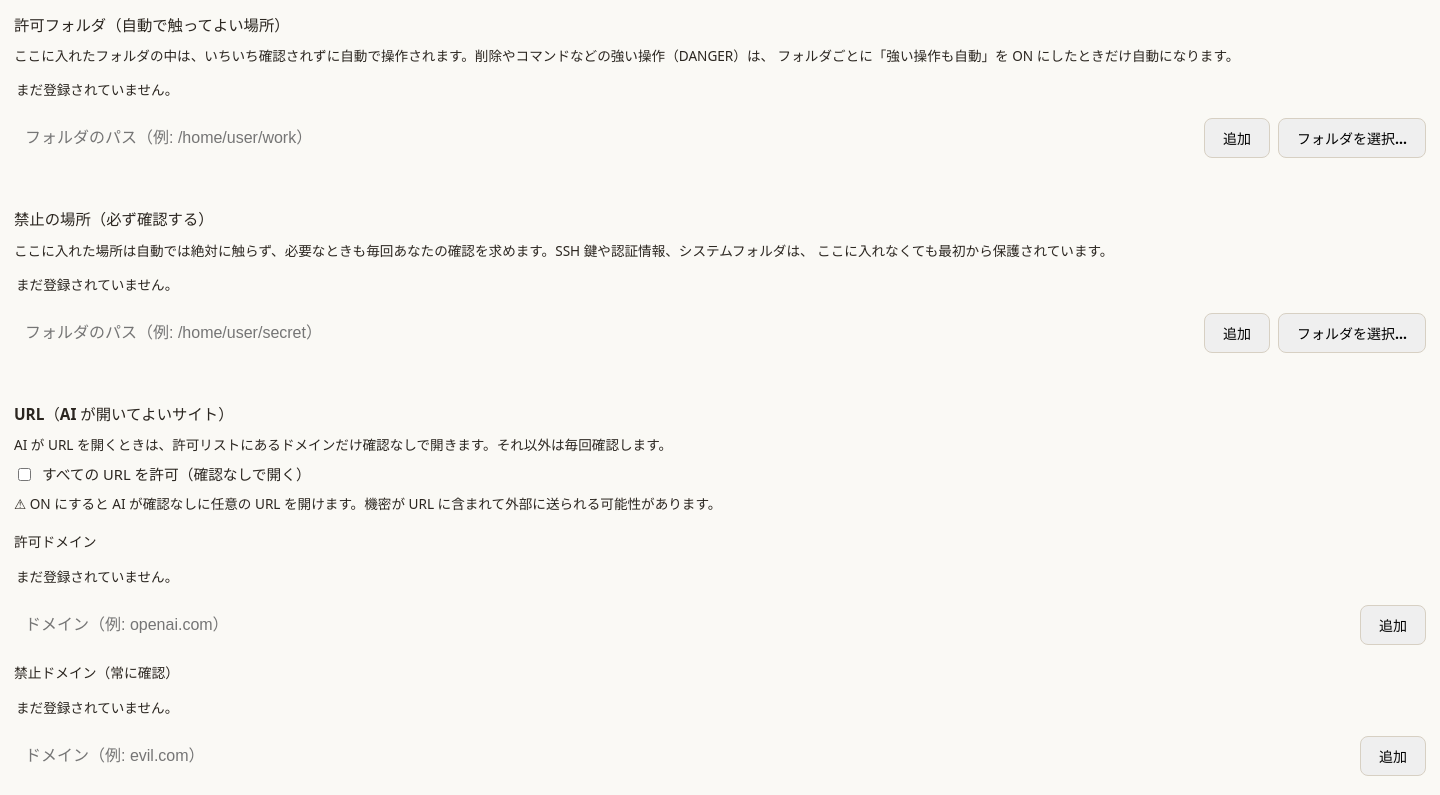
Test: PermissionPolicyEditor › rejects a malformed host without persisting
The image size is (1440, 795).
In the field named "許可ドメイン": (683, 625) x1=14 y1=605 x2=1352 y2=645, type "https://openai.com/path"
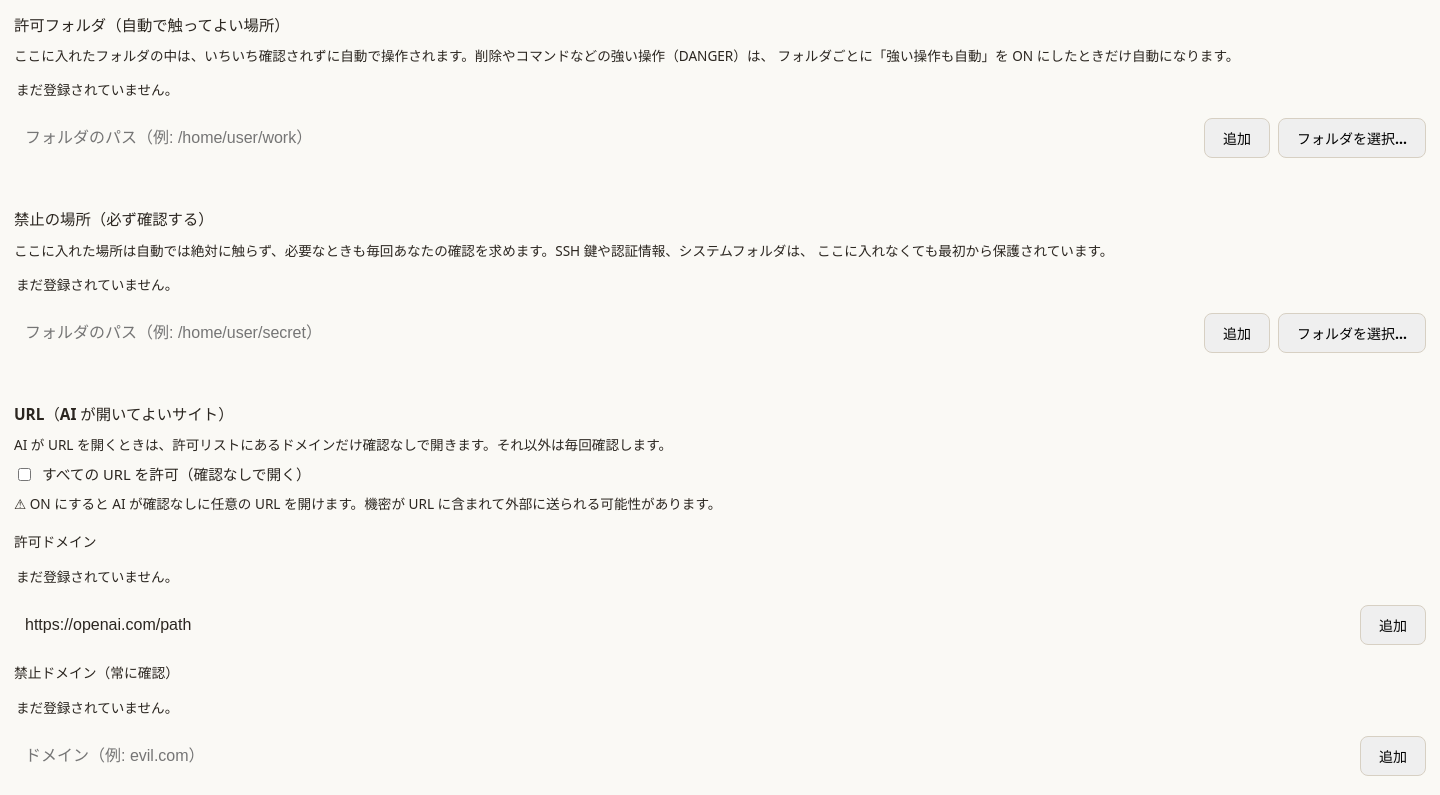
Click the button with aria-label "許可ドメインを追加": (1393, 625) x1=1360 y1=605 x2=1426 y2=645
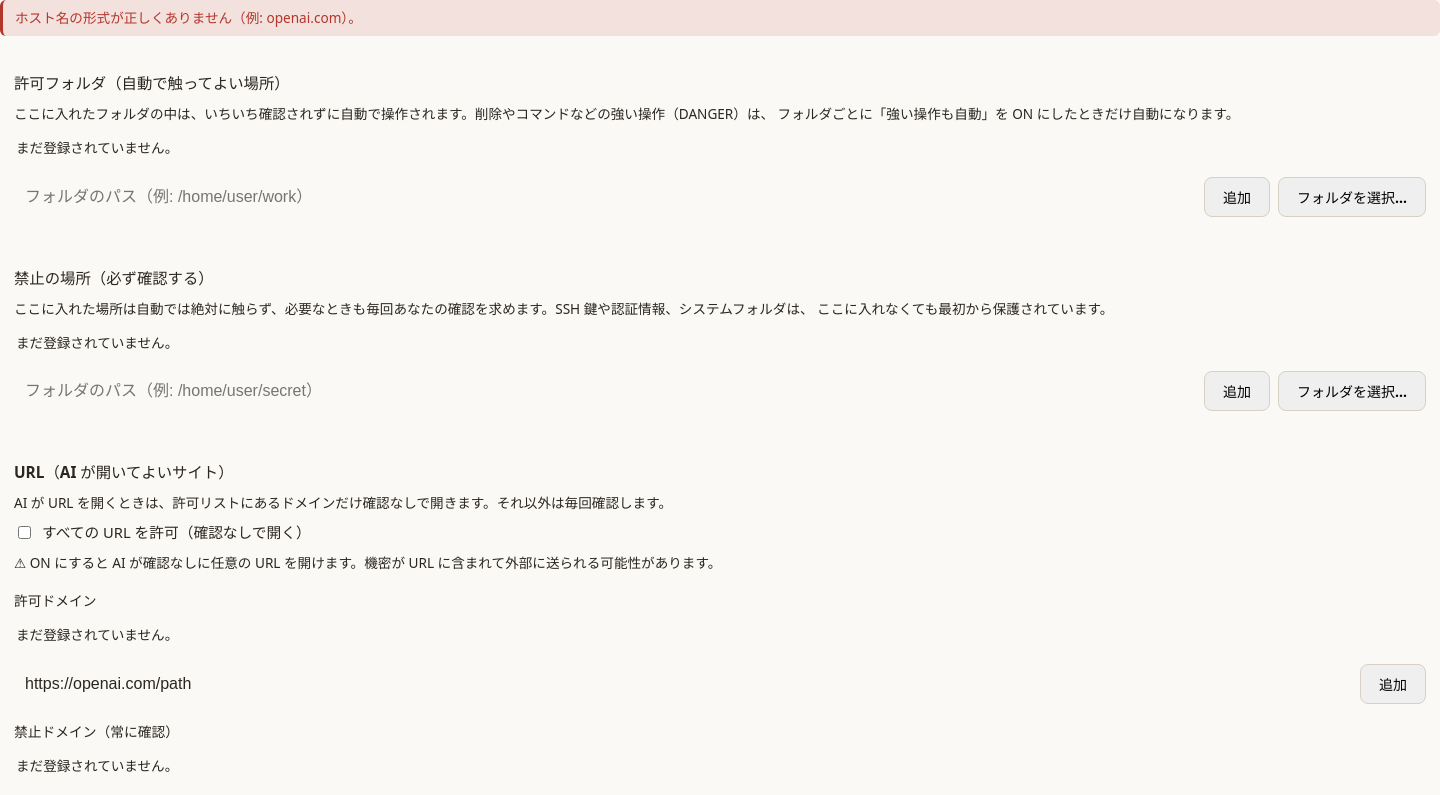
Result: the message "ホスト名の形式が正しくありません（例: openai.com）。" is shown at x1=0 y1=0 x2=1439 y2=36
